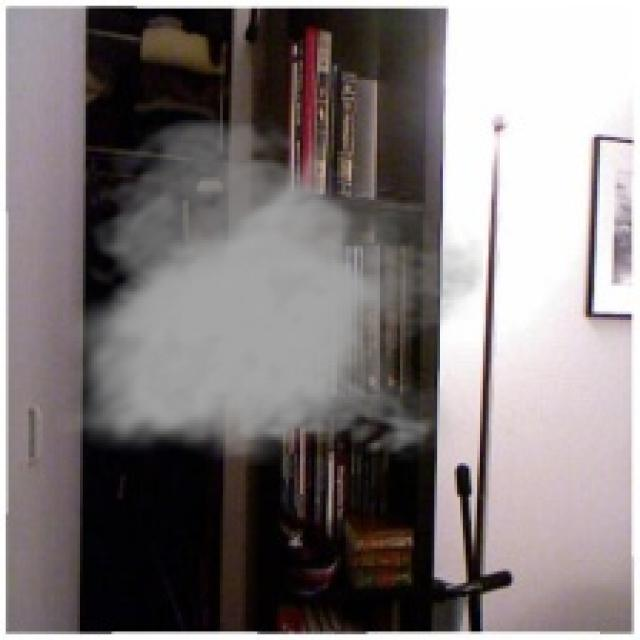smoke: (57, 114, 483, 466)
